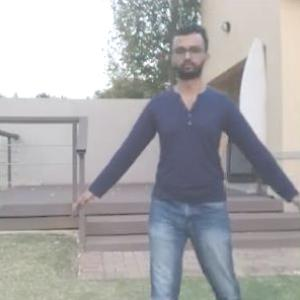land: (77, 32, 298, 293)
